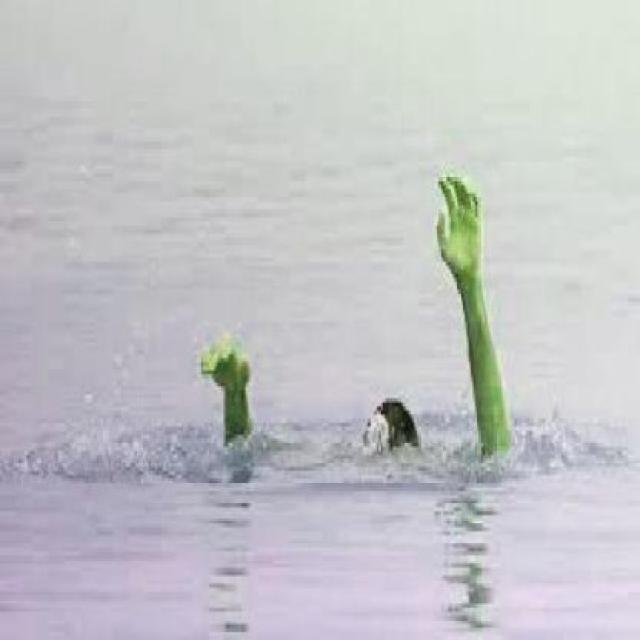drowning: (3, 5, 640, 633)
